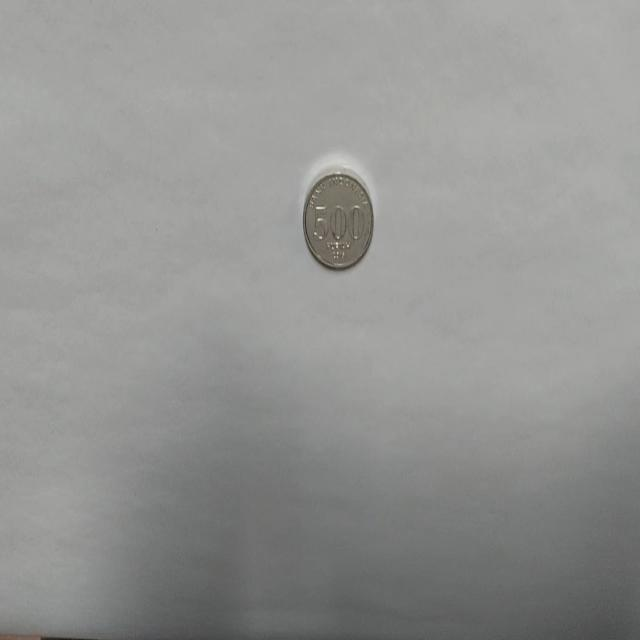lima ratus rupiah: (302, 168, 374, 271)
